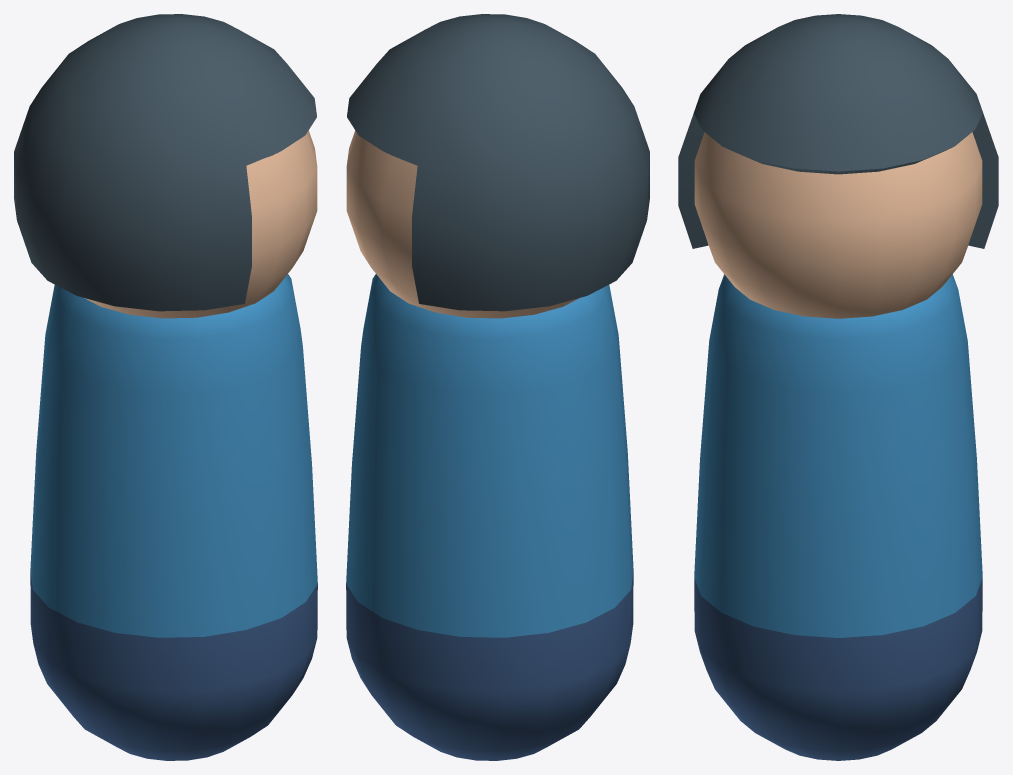
The model's file is mavi3.fbx.
3 renders of one model, left to right at view 1: azimuth 30°, elevation 25°; view 2: azimuth 150°, elevation 25°; view 3: azimuth 270°, elevation 25°, orthographic.
Visible parts, largest first — view 1: mavi3; view 2: mavi3; view 3: mavi3.
Boxes of the visible parts, x1,y1,x2,y2 form: mavi3: (14,14,317,760); mavi3: (346,14,649,760); mavi3: (678,14,998,760).
Bounding box in the file's own units: 1.97 × 5.13 × 2.07.
